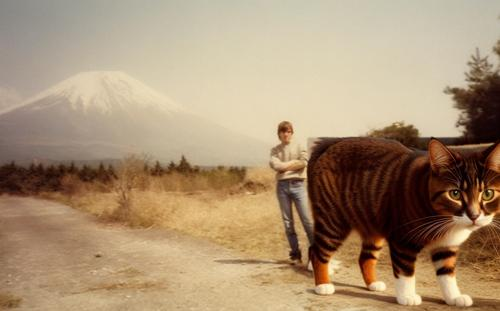cat: (307, 137, 500, 305)
person: (270, 123, 313, 266)
person/foot: (288, 258, 302, 266)
person/head: (277, 122, 294, 143)
